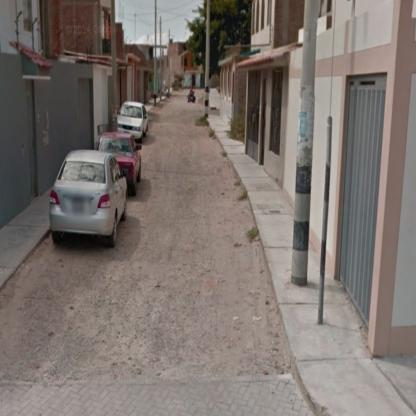Pista: (1, 84, 297, 373)
Vehiculo: (50, 152, 128, 247), (96, 131, 142, 194), (117, 102, 149, 141)
